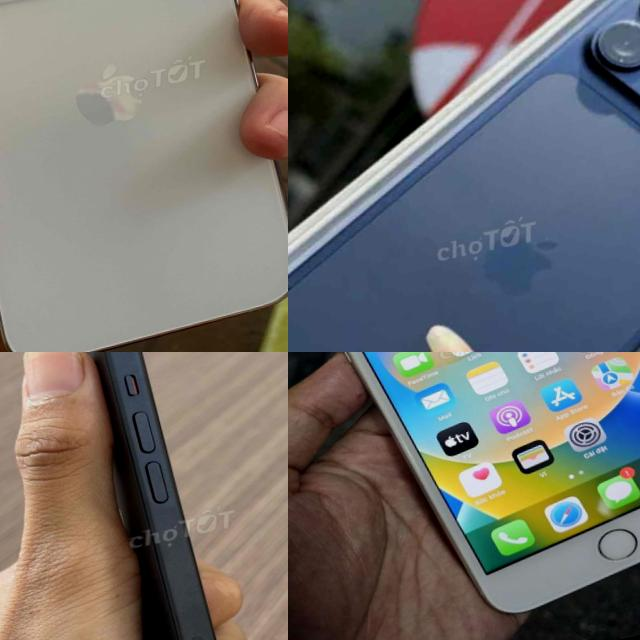gen_12_13: (0, 0, 288, 352)
gen_15: (0, 352, 288, 640)
gen_17: (288, 0, 640, 352)
gen_7_8: (288, 352, 640, 640)
